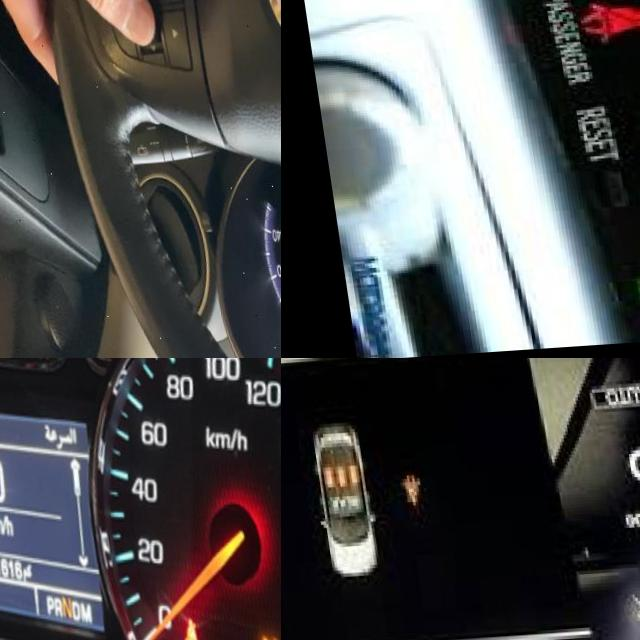Seat Belt: (566, 0, 640, 47), (392, 479, 414, 510)
